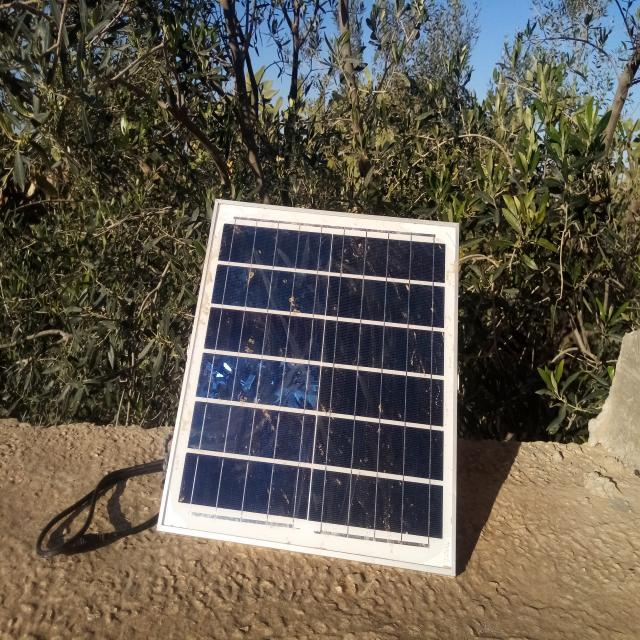faulty: (158, 200, 460, 575)
